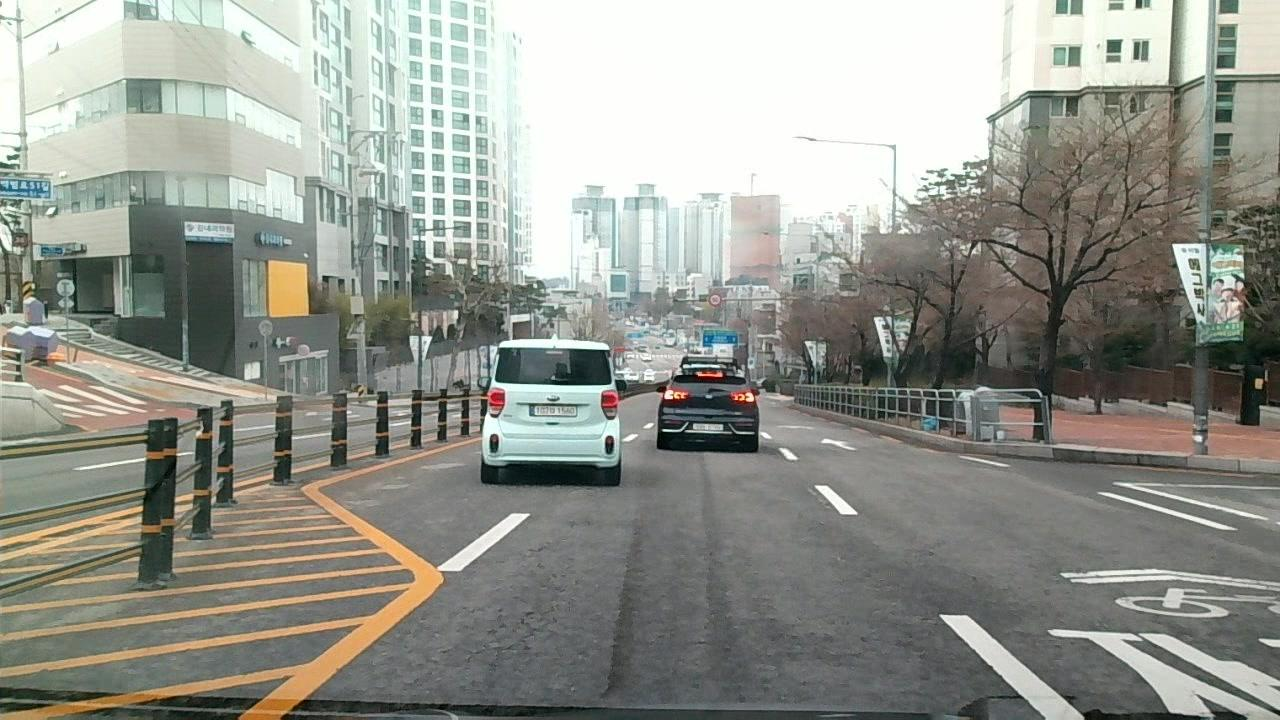erosion: (467, 539, 561, 686)
trash: (920, 414, 939, 434)
vcrack: (605, 529, 640, 697)
